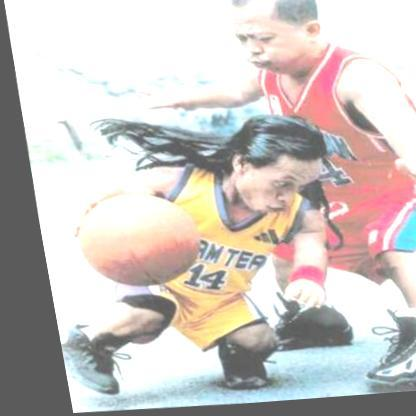basketball: (57, 188, 196, 291)
